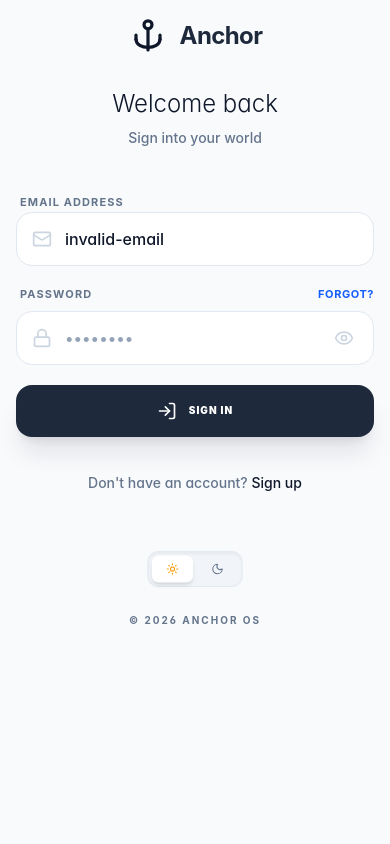
Test: AuthView › validates invalid email format
The width and height of the screenshot is (390, 844).
Click the button "Sign In".
click(195, 410)  # box [16,384,374,436]
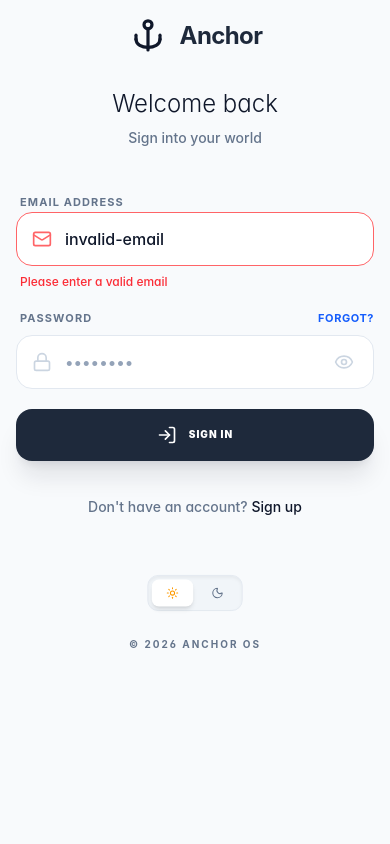
Check: the text "Please enter a valid email" is shown, box [20,274,168,289]
